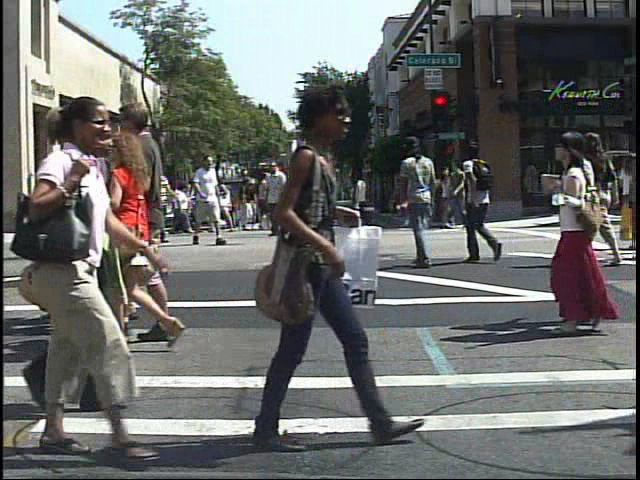person: (221, 77, 412, 459), (12, 89, 174, 470), (107, 125, 195, 348), (101, 97, 171, 351), (544, 122, 622, 348), (454, 138, 513, 271), (398, 130, 445, 276), (577, 128, 607, 343), (190, 151, 222, 249), (71, 163, 101, 247), (129, 161, 159, 244), (144, 158, 175, 238), (401, 161, 430, 234), (55, 183, 81, 246), (84, 183, 104, 225)
